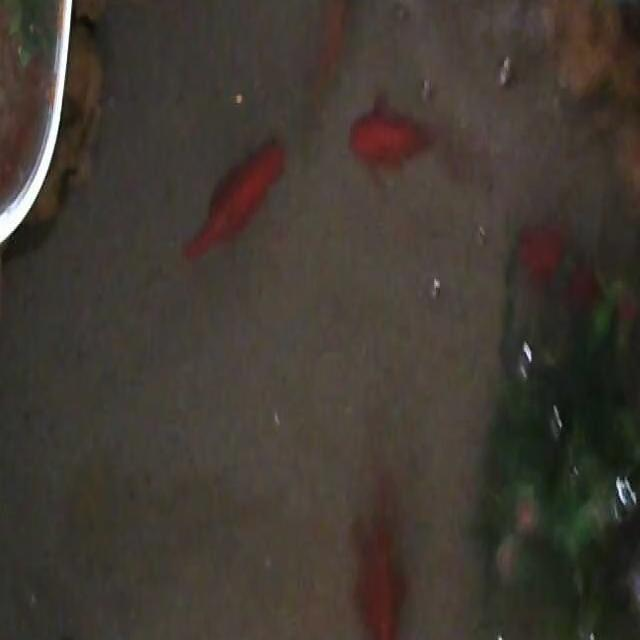fish: (180, 137, 286, 263), (349, 483, 410, 640), (347, 96, 438, 173), (304, 0, 349, 110), (515, 221, 573, 285)
